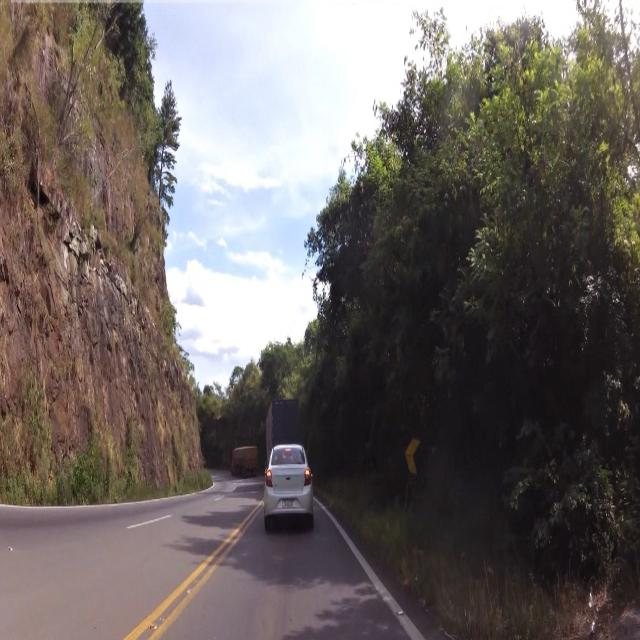Del: (402, 432, 421, 475)
